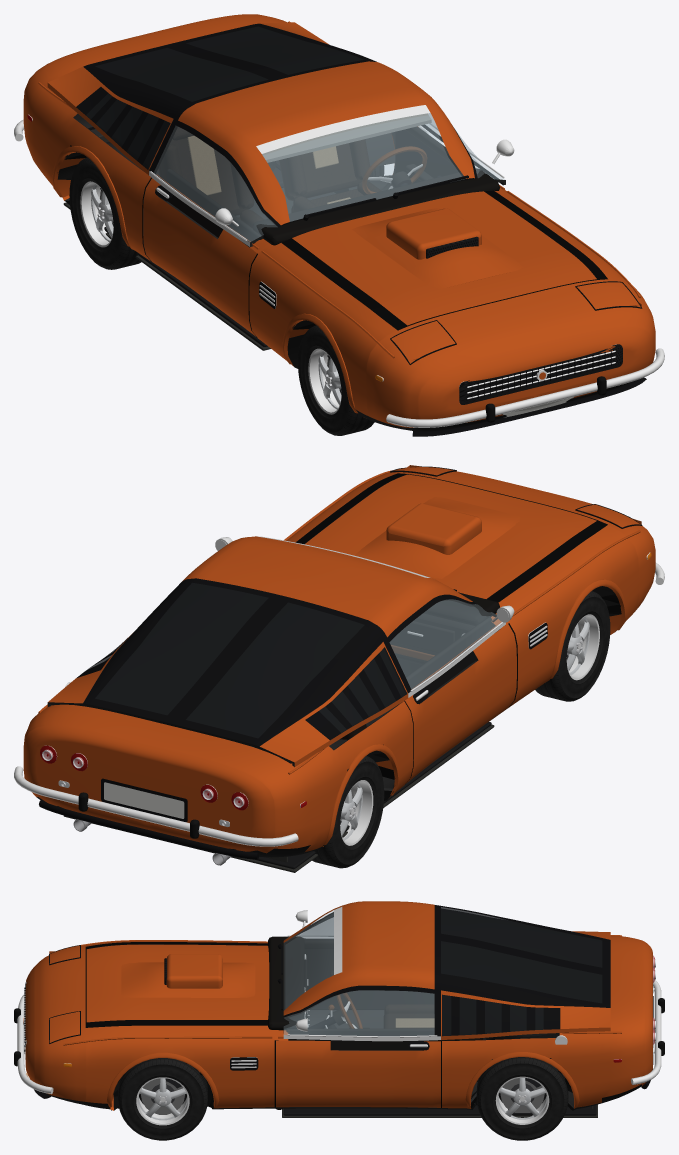
The model's file is ventura_gt_lod1.glb.
3 views of the same model, one above another, from view 1: azimuth 30°, elevation 25°; view 2: azimuth 150°, elevation 25°; view 3: azimuth 270°, elevation 25° (orthographic). The views are drawn at different scales.
Visible parts, largest first — view 1: ventura_gt, door_R, hood, hatch, seat_driver, hood_bulge, wheel_RR, wheel_FR, seat_passenger, hood_scoop, door_card_L, door_card_R (+6 smaller); view 2: ventura_gt, hatch, door_R, hood, hood_bulge, wheel_FR, wheel_RR, hood_scoop, door_card_R, dash_glovebox, sound_deadening, carpets (+1 smaller); view 3: ventura_gt, door_L, hatch, hood, wheel_RL, wheel_FL, hood_bulge, door_card_R, door_card_L, hood_scoop, carpets, seat_passenger (+5 smaller).
Boxes of the visible parts, x1,y1,x2,y2 form: ventura_gt: (14, 14, 664, 436); door_R: (143, 119, 280, 336); hood: (292, 191, 596, 325); hatch: (83, 23, 376, 120); seat_driver: (279, 139, 381, 212); hood_bulge: (352, 208, 523, 288); wheel_RR: (69, 157, 141, 269); wheel_FR: (298, 325, 374, 435); seat_passenger: (158, 127, 264, 227); hood_scoop: (386, 208, 481, 259); door_card_L: (395, 126, 460, 183); door_card_R: (167, 169, 262, 246); ventura_gt: (14, 470, 664, 865); hatch: (83, 578, 386, 748); door_R: (383, 594, 516, 783); hood: (305, 474, 596, 598); hood_bulge: (356, 497, 520, 578); wheel_FR: (535, 591, 610, 701); wheel_RR: (312, 755, 384, 868); hood_scoop: (386, 503, 481, 554); door_card_R: (395, 617, 491, 706); dash_glovebox: (390, 621, 454, 652); sound_deadening: (64, 724, 494, 872); carpets: (255, 722, 491, 869); ventura_gt: (14, 901, 664, 1110); door_L: (276, 985, 440, 1107); hatch: (434, 905, 610, 1007); hood: (86, 944, 269, 1022); wheel_RL: (476, 1057, 568, 1140); wheel_FL: (118, 1058, 207, 1140); hood_bulge: (121, 962, 255, 997); door_card_R: (304, 940, 434, 1009); door_card_L: (286, 1028, 434, 1050); hood_scoop: (164, 954, 222, 988); carpets: (283, 1038, 596, 1115); seat_passenger: (383, 1004, 444, 1041).
Size of the model in its own units: 1.91 by 1.25 by 4.62.
Materials: 54 (7 with a texture image).
